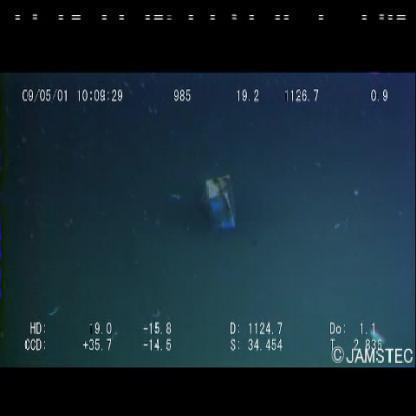Rác: (203, 175, 237, 233)
